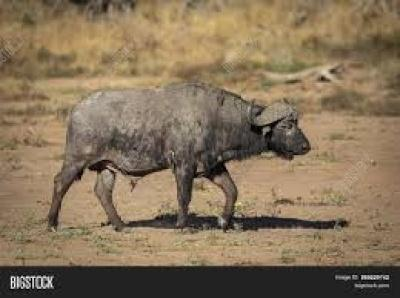buffalo: (47, 82, 312, 232)
